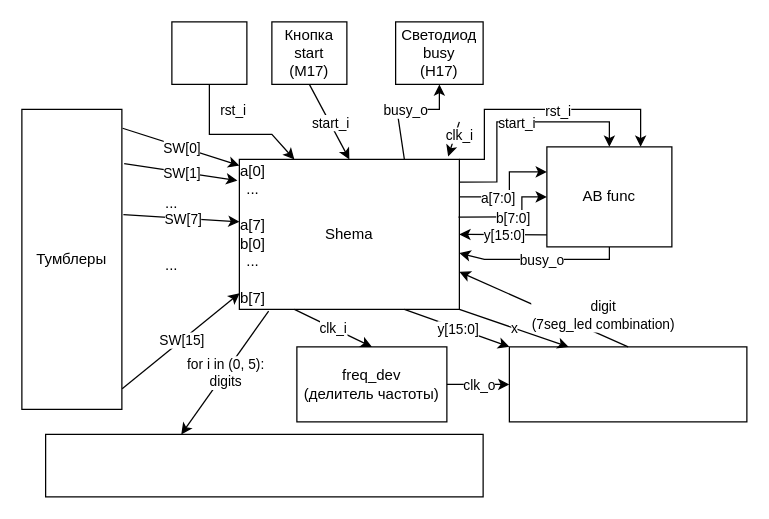
Image size: 769x519. Some labels were removed from this diagram. The shapes that lost their labels are listed below. From the top down, each one's centre as x and y in pixels, then its label:
At point (209, 52): "Кнопка reset (P17)".
At point (627, 384): "res_toseg7 (модуль семисегментников)".
At point (263, 465): "Семисегментники".
